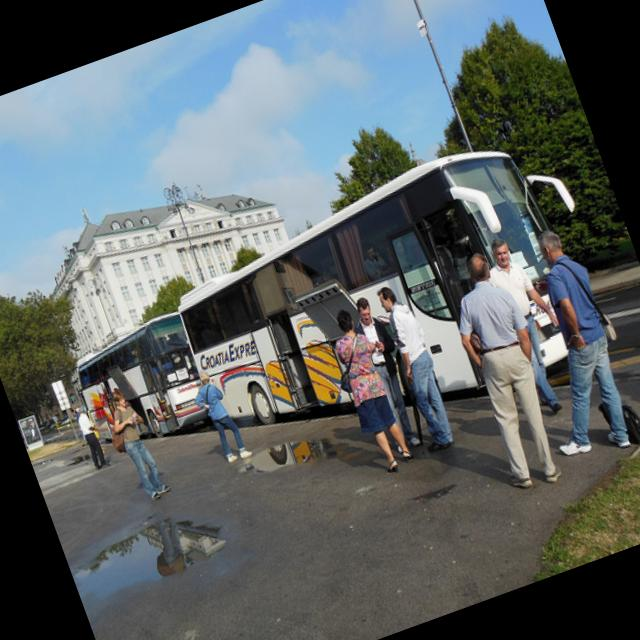Vehicle: (157, 120, 625, 480), (68, 311, 216, 459)
